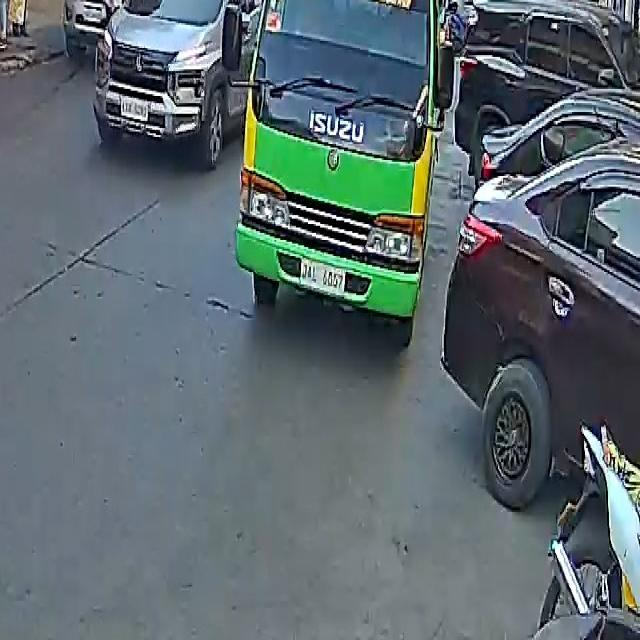car: (440, 69, 640, 528), (89, 0, 246, 165)
